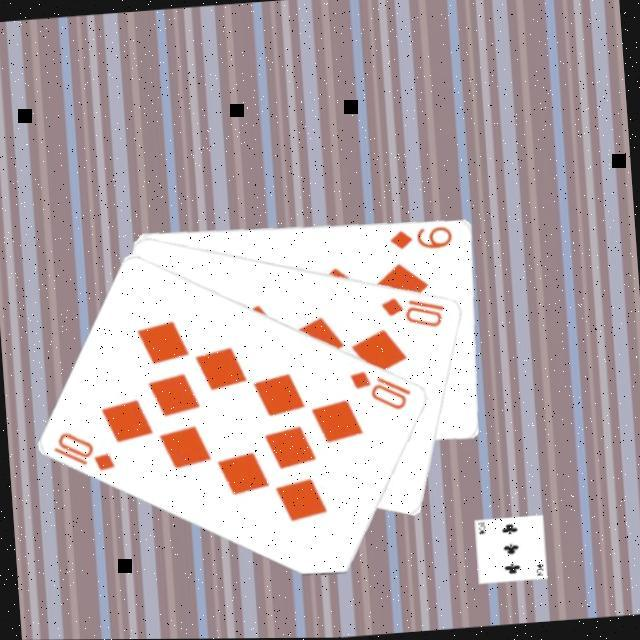10D: (51, 426, 122, 479), (348, 366, 418, 418), (378, 292, 451, 336)
9D: (388, 224, 460, 256)
